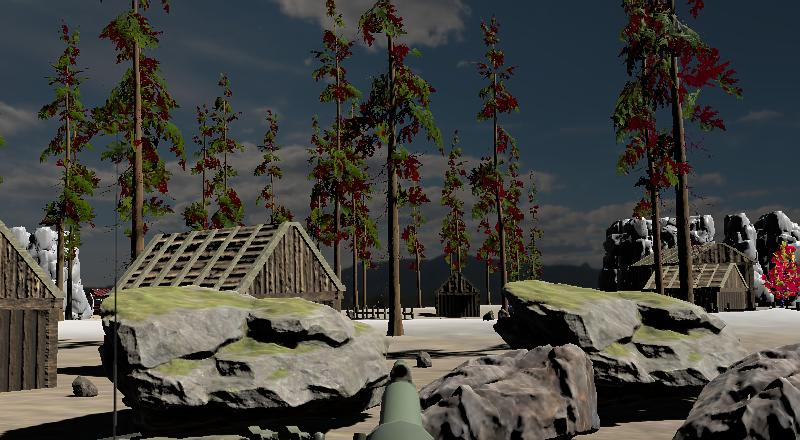House: (122, 221, 345, 291), (0, 204, 67, 394), (650, 265, 748, 308)
